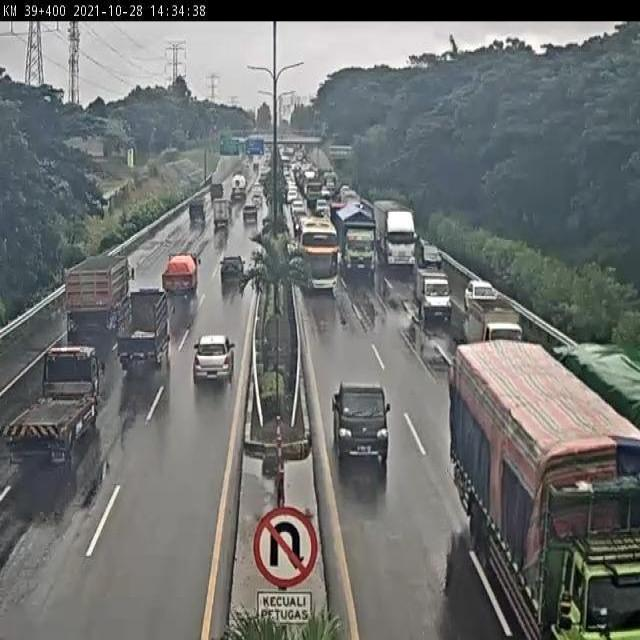big bus: (292, 214, 342, 290)
big truck: (450, 342, 640, 640), (64, 252, 135, 340), (370, 199, 417, 268), (340, 203, 378, 273)
car: (115, 283, 176, 372), (331, 381, 392, 463), (194, 332, 234, 387), (417, 271, 453, 316), (465, 272, 503, 304), (417, 234, 445, 270), (216, 253, 248, 284), (211, 199, 228, 228), (187, 195, 204, 222), (242, 202, 257, 222)
small truck: (0, 346, 108, 462), (471, 300, 525, 347), (160, 252, 200, 295)
